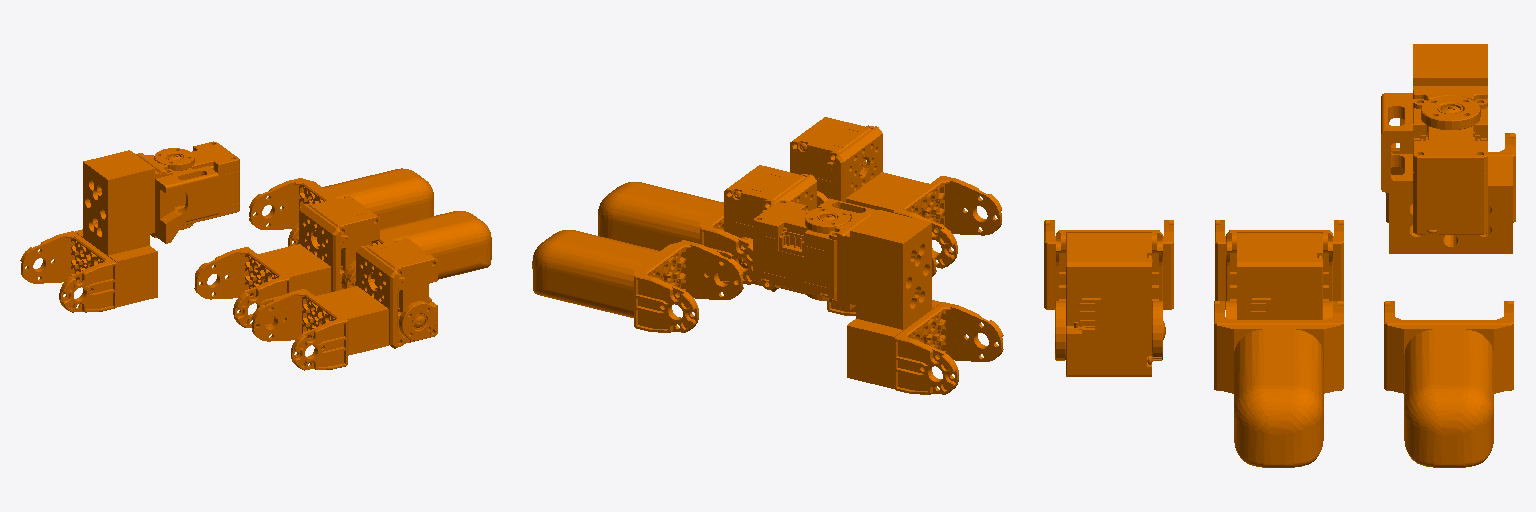
The robot description file, URDF, robot "onshape":
<robot name="onshape">
  <link name="palm_lower">
    <inertial>
      <origin xyz="0.0 0.0 0.0" rpy="0.0 -0.0 0.0"/>
      <mass value="0.237"/>
      <inertia ixx="0.000354094" ixy="-1.193e-06" ixz="-2.445e-06" iyy="0.000260915" iyz="-2.905e-06" izz="0.000529257"/>
    </inertial>
    <visual>
      <geometry>
        <mesh filename="../assets/leap/leap_hand/palm_lower.stl"/>
      </geometry>
      <origin xyz="-0.020095249652862544 0.025757756134899473 -0.034722403578460216" rpy="0.0 -0.0 0.0"/>
      <material name="palm_lower_material">
        <color rgba="0.6039215686274509 0.14901960784313725 0.14901960784313725 1.0"/>
      </material>
    </visual>
    <collision>
      <geometry>
        <mesh filename="../assets/leap/leap_hand/palm_lower.stl"/>
      </geometry>
      <origin xyz="-0.020095249652862544 0.025757756134899473 -0.034722403578460216" rpy="0.0 -0.0 0.0"/>
    </collision>
  </link>
  <link name="mcp_joint_long">
    <inertial>
      <origin xyz="0.0 0.0 0.0" rpy="0.0 -0.0 0.0"/>
      <mass value="0.044"/>
      <inertia ixx="1.1499e-05" ixy="3.049e-06" ixz="1.21e-07" iyy="7.796e-06" iyz="1.12e-07" izz="1.4759e-05"/>
    </inertial>
    <visual>
      <geometry>
        <mesh filename="custom_models/mcp_joint_long.stl"/>
      </geometry>
      <origin xyz="0.008406902261174496 0.0077662438597169954 0.014657354985032912" rpy="1.6375789613221e-15 -1.021047330249102e-30 1.7177968783327987e-31"/>
      <material name="mcp_joint_material">
        <color rgba="0.878 0.467 0.0 1.0"/>
      </material>
    </visual>
    <collision>
      <geometry>
        <mesh filename="custom_models/mcp_joint_long.stl"/>
      </geometry>
      <origin xyz="0.008406902261174496 0.0077662438597169954 0.014657354985032912" rpy="1.6375789613221e-15 -1.021047330249102e-30 1.7177968783327987e-31"/>
    </collision>
  </link>
  <link name="pip">
    <inertial>
      <origin xyz="0.0 0.0 0.0" rpy="0.0 -0.0 0.0"/>
      <mass value="0.032"/>
      <inertia ixx="4.798e-06" ixy="1.2e-08" ixz="4e-09" iyy="2.862e-06" iyz="1.1e-08" izz="4.234e-06"/>
    </inertial>
    <visual>
      <geometry>
        <mesh filename="../assets/leap/leap_hand/pip.stl"/>
      </geometry>
      <origin xyz="0.009643363092271328 0.0002999999999999895 0.0007840340104173765" rpy="-1.5707963267948966 -1.5707963267948963 0.0"/>
      <material name="pip_material">
        <color rgba="0.7490196078431373 0.7490196078431373 0.7490196078431373 1.0"/>
      </material>
    </visual>
    <collision>
      <geometry>
        <mesh filename="../assets/leap/leap_hand/pip.stl"/>
      </geometry>
      <origin xyz="0.009643363092271328 0.0002999999999999895 0.0007840340104173765" rpy="-1.5707963267948966 -1.5707963267948963 0.0"/>
    </collision>
  </link>
  <link name="dip">
    <inertial>
      <origin xyz="0.0 0.0 0.0" rpy="0.0 -0.0 0.0"/>
      <mass value="0.037"/>
      <inertia ixx="5.542e-06" ixy="-6.07e-07" ixz="-1.7e-08" iyy="5.727e-06" iyz="-2.3e-08" izz="6.682e-06"/>
    </inertial>
    <visual>
      <geometry>
        <mesh filename="../assets/leap/leap_hand/dip.stl"/>
      </geometry>
      <origin xyz="0.021133352895225003 -0.00843211914670488 0.00978508816209524" rpy="-3.141592653589793 4.507511124216441e-32 4.439548105392361e-32"/>
      <material name="dip_material">
        <color rgba="0.8666666666666667 0.8666666666666667 0.050980392156862744 1.0"/>
      </material>
    </visual>
    <collision>
      <geometry>
        <mesh filename="../assets/leap/leap_hand/dip.stl"/>
      </geometry>
      <origin xyz="0.021133352895225003 -0.00843211914670488 0.00978508816209524" rpy="-3.141592653589793 4.507511124216441e-32 4.439548105392361e-32"/>
    </collision>
  </link>
  <link name="fingertip_long">
    <inertial>
      <origin xyz="0.0 0.0 0.0" rpy="0.0 -0.0 0.0"/>
      <mass value="0.016"/>
      <inertia ixx="3.368e-06" ixy="1.15e-07" ixz="0.0" iyy="1.556e-06" iyz="0.0" izz="2.863e-06"/>
    </inertial>
    <visual>
      <geometry>
        <mesh filename="custom_models/fingertip_long.stl"/>
      </geometry>
      <origin xyz="0.013286424108533503 -0.006114238386541987 0.014499999999999498" rpy="3.141592653589793 1.1993117970061735e-33 4.439548105392361e-32"/>
      <material name="fingertip_material">
        <color rgba="0.878 0.467 0.0 1.0"/>
      </material>
    </visual>
    <collision>
      <geometry>
        <mesh filename="custom_models/fingertip_long.stl"/>
      </geometry>
      <origin xyz="0.013286424108533503 -0.006114238386541987 0.014499999999999498" rpy="3.141592653589793 1.1993117970061735e-33 4.439548105392361e-32"/>
    </collision>
  </link>
  <link name="pip_4">
    <inertial>
      <origin xyz="0.0 0.0 0.0" rpy="0.0 -0.0 0.0"/>
      <mass value="0.032"/>
      <inertia ixx="4.798e-06" ixy="1.2e-08" ixz="4e-09" iyy="2.862e-06" iyz="1.1e-08" izz="4.234e-06"/>
    </inertial>
    <visual>
      <geometry>
        <mesh filename="../assets/leap/leap_hand/pip.stl"/>
      </geometry>
      <origin xyz="-0.005356636907728671 0.0002999999999999999 0.0007840340104173782" rpy="-1.5707963267948966 -1.5707963267948963 0.0"/>
      <material name="pip_material">
        <color rgba="0.7490196078431373 0.7490196078431373 0.7490196078431373 1.0"/>
      </material>
    </visual>
    <collision>
      <geometry>
        <mesh filename="../assets/leap/leap_hand/pip.stl"/>
      </geometry>
      <origin xyz="-0.005356636907728671 0.0002999999999999999 0.0007840340104173782" rpy="-1.5707963267948966 -1.5707963267948963 0.0"/>
    </collision>
  </link>
  <link name="thumb_pip">
    <inertial>
      <origin xyz="0.0 0.0 0.0" rpy="0.0 -0.0 0.0"/>
      <mass value="0.003"/>
      <inertia ixx="5.93e-07" ixy="0.0" ixz="0.0" iyy="5.49e-07" iyz="0.0" izz="2.24e-07"/>
    </inertial>
    <visual>
      <geometry>
        <mesh filename="../assets/leap/leap_hand/thumb_pip.stl"/>
      </geometry>
      <origin xyz="0.011961920770611187 -5.30825383648903e-16 -0.0158526489566642" rpy="1.5707963267948966 1.6050198443300153e-46 -3.9204996250525193e-59"/>
      <material name="thumb_pip_material">
        <color rgba="0.8666666666666667 0.8666666666666667 0.050980392156862744 1.0"/>
      </material>
    </visual>
    <collision>
      <geometry>
        <mesh filename="../assets/leap/leap_hand/thumb_pip.stl"/>
      </geometry>
      <origin xyz="0.011961920770611187 -5.30825383648903e-16 -0.0158526489566642" rpy="1.5707963267948966 1.6050198443300153e-46 -3.9204996250525193e-59"/>
    </collision>
  </link>
  <link name="thumb_dip">
    <inertial>
      <origin xyz="0.0 0.0 0.0" rpy="0.0 -0.0 0.0"/>
      <mass value="0.038"/>
      <inertia ixx="8.474e-06" ixy="2.41e-07" ixz="2.6e-08" iyy="3.841e-06" iyz="2.5e-08" izz="7.679e-06"/>
    </inertial>
    <visual>
      <geometry>
        <mesh filename="../assets/leap/leap_hand/thumb_dip.stl"/>
      </geometry>
      <origin xyz="0.043968715707239175 0.0579529529737092 -0.008628676449369476" rpy="1.94289029309401e-16 3.27515792264422e-15 1.112375852965736e-46"/>
      <material name="thumb_dip_material">
        <color rgba="0.8666666666666667 0.8666666666666667 0.050980392156862744 1.0"/>
      </material>
    </visual>
    <collision>
      <geometry>
        <mesh filename="../assets/leap/leap_hand/thumb_dip.stl"/>
      </geometry>
      <origin xyz="0.043968715707239175 0.0579529529737092 -0.008628676449369476" rpy="1.94289029309401e-16 3.27515792264422e-15 1.112375852965736e-46"/>
    </collision>
  </link>
  <link name="thumb_fingertip">
    <inertial>
      <origin xyz="0.0 0.0 0.0" rpy="0.0 -0.0 0.0"/>
      <mass value="0.049"/>
      <inertia ixx="2.0372e-05" ixy="-4.89e-07" ixz="-3e-08" iyy="4.336e-06" iyz="-9.7e-08" izz="1.9845e-05"/>
    </inertial>
    <visual>
      <geometry>
        <mesh filename="../assets/leap/leap_hand/thumb_fingertip.stl"/>
      </geometry>
      <origin xyz="0.06255953846266739 0.07845968291139699 0.048992911807332215" rpy="4.379057701015637e-47 -3.33066907387547e-16 1.2042408677791935e-46"/>
      <material name="thumb_fingertip_material">
        <color rgba="0.6039215686274509 0.14901960784313725 0.14901960784313725 1.0"/>
      </material>
    </visual>
    <collision>
      <geometry>
        <mesh filename="../assets/leap/leap_hand/thumb_fingertip.stl"/>
      </geometry>
      <origin xyz="0.06255953846266739 0.07845968291139699 0.048992911807332215" rpy="4.379057701015637e-47 -3.33066907387547e-16 1.2042408677791935e-46"/>
    </collision>
  </link>
  <link name="mcp_joint_2">
    <inertial>
      <origin xyz="0.0 0.0 0.0" rpy="0.0 -0.0 0.0"/>
      <mass value="0.044"/>
      <inertia ixx="1.1499e-05" ixy="3.049e-06" ixz="1.21e-07" iyy="7.796e-06" iyz="1.12e-07" izz="1.4759e-05"/>
    </inertial>
    <visual>
      <geometry>
        <mesh filename="../assets/leap/leap_hand/mcp_joint.stl"/>
      </geometry>
      <origin xyz="0.008406902261174496 0.0077662438597169954 0.014657354985032914" rpy="1.6375789613221e-15 -1.0076465469034e-30 2.1209300131419907e-61"/>
      <material name="mcp_joint_material">
        <color rgba="0.8666666666666667 0.8666666666666667 0.050980392156862744 1.0"/>
      </material>
    </visual>
    <collision>
      <geometry>
        <mesh filename="../assets/leap/leap_hand/mcp_joint.stl"/>
      </geometry>
      <origin xyz="0.008406902261174496 0.0077662438597169954 0.014657354985032914" rpy="1.6375789613221e-15 -1.0076465469034e-30 2.1209300131419907e-61"/>
    </collision>
  </link>
  <link name="pip_2">
    <inertial>
      <origin xyz="0.0 0.0 0.0" rpy="0.0 -0.0 0.0"/>
      <mass value="0.032"/>
      <inertia ixx="4.798e-06" ixy="1.2e-08" ixz="4e-09" iyy="2.862e-06" iyz="1.1e-08" izz="4.234e-06"/>
    </inertial>
    <visual>
      <geometry>
        <mesh filename="../assets/leap/leap_hand/pip.stl"/>
      </geometry>
      <origin xyz="0.009643363092271328 0.0002999999999999947 0.0007840340104173765" rpy="-1.5707963267948966 -1.5707963267948963 0.0"/>
      <material name="pip_material">
        <color rgba="0.7490196078431373 0.7490196078431373 0.7490196078431373 1.0"/>
      </material>
    </visual>
    <collision>
      <geometry>
        <mesh filename="../assets/leap/leap_hand/pip.stl"/>
      </geometry>
      <origin xyz="0.009643363092271328 0.0002999999999999947 0.0007840340104173765" rpy="-1.5707963267948966 -1.5707963267948963 0.0"/>
    </collision>
  </link>
  <link name="dip_2_long">
    <inertial>
      <origin xyz="0.0 0.0 0.0" rpy="0.0 -0.0 0.0"/>
      <mass value="0.037"/>
      <inertia ixx="5.542e-06" ixy="-6.07e-07" ixz="-1.7e-08" iyy="5.727e-06" iyz="-2.3e-08" izz="6.682e-06"/>
    </inertial>
    <visual>
      <geometry>
        <mesh filename="custom_models/dip_long.stl"/>
      </geometry>
      <origin xyz="0.021133352895225003 -0.008432119146704865 0.009785088162095237" rpy="-3.141592653589793 2.1146933785271956e-32 1.4408183216511869e-31"/>
      <material name="dip_material">
        <color rgba="0.878 0.467 0.0 1.0"/>
      </material>
    </visual>
    <collision>
      <geometry>
        <mesh filename="custom_models/dip_long.stl"/>
      </geometry>
      <origin xyz="0.021133352895225003 -0.008432119146704865 0.009785088162095237" rpy="-3.141592653589793 2.1146933785271956e-32 1.4408183216511869e-31"/>
    </collision>
  </link>
  <link name="fingertip_2_long">
    <inertial>
      <origin xyz="0.0 0.0 0.0" rpy="0.0 -0.0 0.0"/>
      <mass value="0.016"/>
      <inertia ixx="3.368e-06" ixy="1.15e-07" ixz="0.0" iyy="1.556e-06" iyz="0.0" izz="2.863e-06"/>
    </inertial>
    <visual>
      <geometry>
        <mesh filename="custom_models/fingertip_long.stl"/>
      </geometry>
      <origin xyz="0.013286424108533496 -0.006114238386542001 0.014499999999999496" rpy="3.141592653589793 -4.317959788283594e-33 1.4408183216511869e-31"/>
      <material name="fingertip_material">
        <color rgba="0.878 0.467 0.0 1.0"/>
      </material>
    </visual>
    <collision>
      <geometry>
        <mesh filename="custom_models/fingertip_long.stl"/>
      </geometry>
      <origin xyz="0.013286424108533496 -0.006114238386542001 0.014499999999999496" rpy="3.141592653589793 -4.317959788283594e-33 1.4408183216511869e-31"/>
    </collision>
  </link>
  <link name="mcp_joint_3">
    <inertial>
      <origin xyz="0.0 0.0 0.0" rpy="0.0 -0.0 0.0"/>
      <mass value="0.044"/>
      <inertia ixx="1.1499e-05" ixy="3.049e-06" ixz="1.21e-07" iyy="7.796e-06" iyz="1.12e-07" izz="1.4759e-05"/>
    </inertial>
    <visual>
      <geometry>
        <mesh filename="../assets/leap/leap_hand/mcp_joint.stl"/>
      </geometry>
      <origin xyz="0.0084069022611745 0.007766243859716996 0.014657354985032914" rpy="1.6375789613221e-15 -1.0059504988632627e-30 5.729641584552035e-32"/>
      <material name="mcp_joint_material">
        <color rgba="0.8666666666666667 0.8666666666666667 0.050980392156862744 1.0"/>
      </material>
    </visual>
    <collision>
      <geometry>
        <mesh filename="../assets/leap/leap_hand/mcp_joint.stl"/>
      </geometry>
      <origin xyz="0.0084069022611745 0.007766243859716996 0.014657354985032914" rpy="1.6375789613221e-15 -1.0059504988632627e-30 5.729641584552035e-32"/>
    </collision>
  </link>
  <link name="pip_3">
    <inertial>
      <origin xyz="0.0 0.0 0.0" rpy="0.0 -0.0 0.0"/>
      <mass value="0.032"/>
      <inertia ixx="4.798e-06" ixy="1.2e-08" ixz="4e-09" iyy="2.862e-06" iyz="1.1e-08" izz="4.234e-06"/>
    </inertial>
    <visual>
      <geometry>
        <mesh filename="../assets/leap/leap_hand/pip.stl"/>
      </geometry>
      <origin xyz="0.009643363092271331 0.00029999999999998084 0.0007840340104173765" rpy="-1.5707963267948966 -1.5707963267948963 0.0"/>
      <material name="pip_material">
        <color rgba="0.7490196078431373 0.7490196078431373 0.7490196078431373 1.0"/>
      </material>
    </visual>
    <collision>
      <geometry>
        <mesh filename="../assets/leap/leap_hand/pip.stl"/>
      </geometry>
      <origin xyz="0.009643363092271331 0.00029999999999998084 0.0007840340104173765" rpy="-1.5707963267948966 -1.5707963267948963 0.0"/>
    </collision>
  </link>
  <link name="dip_3_long">
    <inertial>
      <origin xyz="0.0 0.0 0.0" rpy="0.0 -0.0 0.0"/>
      <mass value="0.037"/>
      <inertia ixx="5.542e-06" ixy="-6.07e-07" ixz="-1.7e-08" iyy="5.727e-06" iyz="-2.3e-08" izz="6.682e-06"/>
    </inertial>
    <visual>
      <geometry>
        <mesh filename="custom_models/dip_long.stl"/>
      </geometry>
      <origin xyz="0.021133352895225006 -0.008432119146704865 0.009785088162095237" rpy="-3.141592653589793 -1.4095651113919093e-33 1.5565411607615035e-32"/>
      <material name="dip_material">
        <color rgba="0.878 0.467 0.0 1.0"/>
      </material>
    </visual>
    <collision>
      <geometry>
        <mesh filename="custom_models/dip_long.stl"/>
      </geometry>
      <origin xyz="0.021133352895225006 -0.008432119146704865 0.009785088162095237" rpy="-3.141592653589793 -1.4095651113919093e-33 1.5565411607615035e-32"/>
    </collision>
  </link>
  <link name="fingertip_3">
    <inertial>
      <origin xyz="0.0 0.0 0.0" rpy="0.0 -0.0 0.0"/>
      <mass value="0.016"/>
      <inertia ixx="3.368e-06" ixy="1.15e-07" ixz="0.0" iyy="1.556e-06" iyz="0.0" izz="2.863e-06"/>
    </inertial>
    <visual>
      <geometry>
        <mesh filename="../assets/leap/leap_hand/fingertip.stl"/>
      </geometry>
      <origin xyz="0.013286424108533501 -0.006114238386541987 0.0144999999999995" rpy="3.141592653589793 8.61707169505754e-33 1.5565411607615035e-32"/>
      <material name="fingertip_material">
        <color rgba="0.8666666666666667 0.8666666666666667 0.050980392156862744 1.0"/>
      </material>
    </visual>
    <collision>
      <geometry>
        <mesh filename="../assets/leap/leap_hand/fingertip.stl"/>
      </geometry>
      <origin xyz="0.013286424108533501 -0.006114238386541987 0.0144999999999995" rpy="3.141592653589793 8.61707169505754e-33 1.5565411607615035e-32"/>
    </collision>
  </link>
  <joint name="1" type="revolute">
    <parent link="palm_lower"/>
    <child link="mcp_joint_long"/>
    <origin xyz="-0.007095249652862546 0.023057756134899472 -0.01872240357846022" rpy="1.570796326794895 1.5707963267948946 0.0"/>
    <axis xyz="0.0 0.0 -1.0"/>
    <limit effort="0.95" velocity="8.48" lower="-0.314" upper="2.23"/>
  </joint>
  <joint name="0" type="revolute">
    <parent link="mcp_joint_long"/>
    <child link="pip"/>
    <origin xyz="-0.012200000000000007713 0.053099999999999994982 0.014500000000000000736" rpy="-1.5707963267948966 -1.0065212660796337e-15 1.5707963267948943"/>
    <axis xyz="0.0 0.0 -1.0"/>
    <limit effort="0.95" velocity="8.48" lower="-1.047" upper="1.047"/>
  </joint>
  <joint name="2" type="revolute">
    <parent link="pip"/>
    <child link="dip"/>
    <origin xyz="0.014999999999999968 0.014299999999999905 -0.012999999999999824" rpy="1.570796326794896 -1.5707963267948963 0.0"/>
    <axis xyz="0.0 0.0 -1.0"/>
    <limit effort="0.95" velocity="8.48" lower="-0.506" upper="1.885"/>
  </joint>
  <joint name="3" type="revolute">
    <parent link="dip"/>
    <child link="fingertip_long"/>
    <origin xyz="-4.088058249557269e-09 -0.03610000421036737 0.0002000000000000786" rpy="4.5935029425113685e-17 -2.8730071914463795e-16 4.439548105392361e-32"/>
    <axis xyz="0.0 0.0 -1.0"/>
    <limit effort="0.95" velocity="8.48" lower="-0.366" upper="2.042"/>
  </joint>
  <joint name="12" type="revolute">
    <parent link="palm_lower"/>
    <child link="pip_4"/>
    <origin xyz="-0.06939524965286253 -0.0012422438651005258 -0.021622403578460216" rpy="-8.238176646493942e-17 1.5707963267948957 0.0"/>
    <axis xyz="0.0 0.0 -1.0"/>
    <limit effort="0.95" velocity="8.48" lower="-0.349" upper="2.094"/>
  </joint>
  <joint name="13" type="revolute">
    <parent link="pip_4"/>
    <child link="thumb_pip"/>
    <origin xyz="-2.7755575615628914e-17 0.014300000000000005 -0.013000000000000012" rpy="1.570796326794896 -1.5707963267948963 0.0"/>
    <axis xyz="0.0 0.0 -1.0"/>
    <limit effort="0.95" velocity="8.48" lower="-0.47" upper="2.443"/>
  </joint>
  <joint name="14" type="revolute">
    <parent link="thumb_pip"/>
    <child link="thumb_dip"/>
    <origin xyz="0.0 0.014499999999999966 -0.017000000000000053" rpy="-1.5707963267948966 1.6050198443300131e-46 -1.9721522630516625e-31"/>
    <axis xyz="0.0 0.0 -1.0"/>
    <limit effort="0.95" velocity="8.48" lower="-1.2" upper="1.9"/>
  </joint>
  <joint name="15" type="revolute">
    <parent link="thumb_dip"/>
    <child link="thumb_fingertip"/>
    <origin xyz="-1.249000902703301e-16 0.046599999999999864 0.0001999999999999771" rpy="1.506395849149178e-44 5.423418723393526e-31 3.141592653589793"/>
    <axis xyz="0.0 0.0 -1.0"/>
    <limit effort="0.95" velocity="8.48" lower="-1.34" upper="1.88"/>
  </joint>
  <joint name="5" type="revolute">
    <parent link="palm_lower"/>
    <child link="mcp_joint_2"/>
    <origin xyz="-0.007095249652862546 -0.022392243865100525 -0.01872240357846022" rpy="1.570796326794895 1.5707963267948946 0.0"/>
    <axis xyz="0.0 0.0 -1.0"/>
    <limit effort="0.95" velocity="8.48" lower="-0.314" upper="2.23"/>
  </joint>
  <joint name="4" type="revolute">
    <parent link="mcp_joint_2"/>
    <child link="pip_2"/>
    <origin xyz="-0.012200000000000008 0.038099999999999995 0.0145" rpy="-1.5707963267948966 -1.0065212660796337e-15 1.5707963267948943"/>
    <axis xyz="0.0 0.0 -1.0"/>
    <limit effort="0.95" velocity="8.48" lower="-1.047" upper="1.047"/>
  </joint>
  <joint name="6" type="revolute">
    <parent link="pip_2"/>
    <child link="dip_2_long"/>
    <origin xyz="0.014999999999999968 0.014299999999999905 -0.012999999999999824" rpy="1.570796326794896 -1.5707963267948963 0.0"/>
    <axis xyz="0.0 0.0 -1.0"/>
    <limit effort="0.95" velocity="8.48" lower="-0.506" upper="1.885"/>
  </joint>
  <joint name="7" type="revolute">
    <parent link="dip_2_long"/>
    <child link="fingertip_2_long"/>
    <origin xyz="-4.0880582495572692636e-09 -0.051100004210367367397 0.00020000000000007858714" rpy="4.5935029425113685e-17 -2.8730071914463795e-16 4.439548105392361e-32"/>
    <axis xyz="0.0 0.0 -1.0"/>
    <limit effort="0.95" velocity="8.48" lower="-0.366" upper="2.042"/>
  </joint>
  <joint name="9" type="revolute">
    <parent link="palm_lower"/>
    <child link="mcp_joint_3"/>
    <origin xyz="-0.007095249652862546 -0.06784224386510052 -0.01872240357846022" rpy="1.570796326794895 1.5707963267948946 0.0"/>
    <axis xyz="0.0 0.0 -1.0"/>
    <limit effort="0.95" velocity="8.48" lower="-0.314" upper="2.23"/>
  </joint>
  <joint name="8" type="revolute">
    <parent link="mcp_joint_3"/>
    <child link="pip_3"/>
    <origin xyz="-0.012200000000000008 0.038099999999999995 0.0145" rpy="-1.5707963267948966 -1.0065212660796337e-15 1.5707963267948943"/>
    <axis xyz="0.0 0.0 -1.0"/>
    <limit effort="0.95" velocity="8.48" lower="-1.047" upper="1.047"/>
  </joint>
  <joint name="10" type="revolute">
    <parent link="pip_3"/>
    <child link="dip_3_long"/>
    <origin xyz="0.014999999999999968 0.014299999999999905 -0.012999999999999824" rpy="1.570796326794896 -1.5707963267948963 0.0"/>
    <axis xyz="0.0 0.0 -1.0"/>
    <limit effort="0.95" velocity="8.48" lower="-0.506" upper="1.885"/>
  </joint>
  <joint name="11" type="revolute">
    <parent link="dip_3_long"/>
    <child link="fingertip_3"/>
    <origin xyz="-4.0880582495572692636e-09 -0.051100004210367367397 0.00020000000000007858714" rpy="4.5935029425113685e-17 -2.8730071914463795e-16 4.439548105392361e-32"/>
    <axis xyz="0.0 0.0 -1.0"/>
    <limit effort="0.95" velocity="8.48" lower="-0.366" upper="2.042"/>
  </joint>
</robot>

--- What the picture shows (computed from the rendered views, not written in the file) ---
The picture shows the robot from 3 angles, left to right: view 1: azimuth 30°, elevation 25°; view 2: azimuth 150°, elevation 25°; view 3: azimuth 270°, elevation 25°; orthographic projection.
Model onshape with 17 links and 16 joints (16 revolute), rooted at palm_lower, posed all joints at 0.
Links seen in each view (by area): view 1: mcp_joint_long, dip_3_long, dip_2_long, fingertip_long, fingertip_2_long; view 2: mcp_joint_long, fingertip_long, dip_3_long, fingertip_2_long, dip_2_long; view 3: mcp_joint_long, dip_3_long, fingertip_2_long, fingertip_long, dip_2_long.
Boxes of the visible links, x1,y1,x2,y2 form: mcp_joint_long: [20, 141, 239, 312]; dip_3_long: [252, 238, 437, 370]; dip_2_long: [194, 195, 379, 327]; fingertip_long: [249, 168, 433, 246]; fingertip_2_long: [345, 211, 491, 288]; mcp_joint_long: [753, 198, 1003, 394]; fingertip_long: [532, 230, 743, 332]; dip_3_long: [790, 117, 1001, 268]; fingertip_2_long: [598, 182, 756, 284]; dip_2_long: [724, 165, 936, 315]; mcp_joint_long: [1381, 44, 1515, 253]; dip_3_long: [1044, 220, 1173, 376]; fingertip_2_long: [1214, 301, 1343, 467]; fingertip_long: [1384, 301, 1513, 467]; dip_2_long: [1215, 220, 1343, 319].
Size in the robot's own frame: 0.1766 by 0.1257 by 0.0549 metres.
Meshes: 11 distinct files referenced, 5 mesh visuals loaded (3 binary STL); not drawn: 12 (reference not matched to a file when rendering).